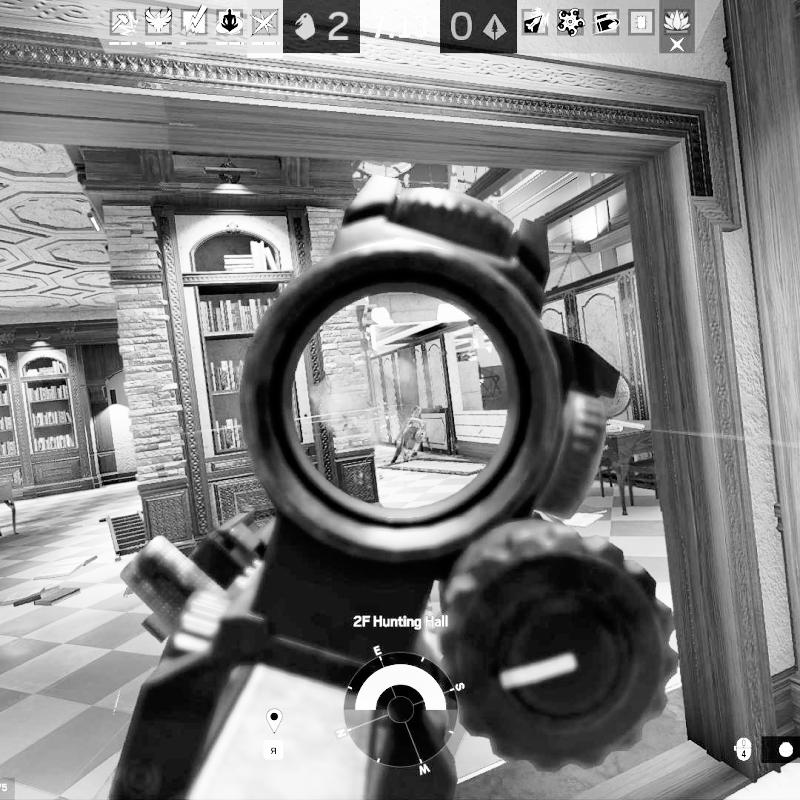Character: (388, 404, 428, 469)
Head: (410, 404, 422, 418)
